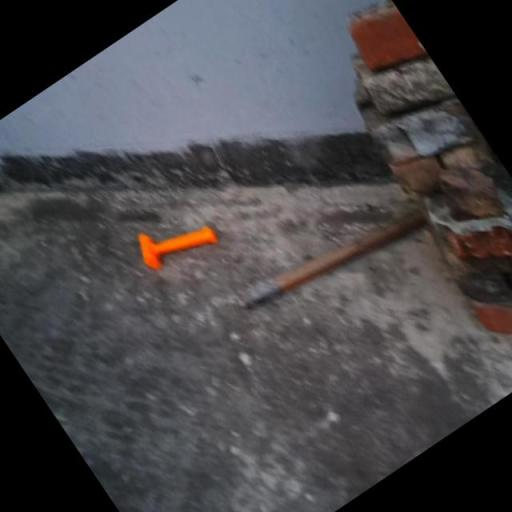mallet: (130, 197, 221, 282)
